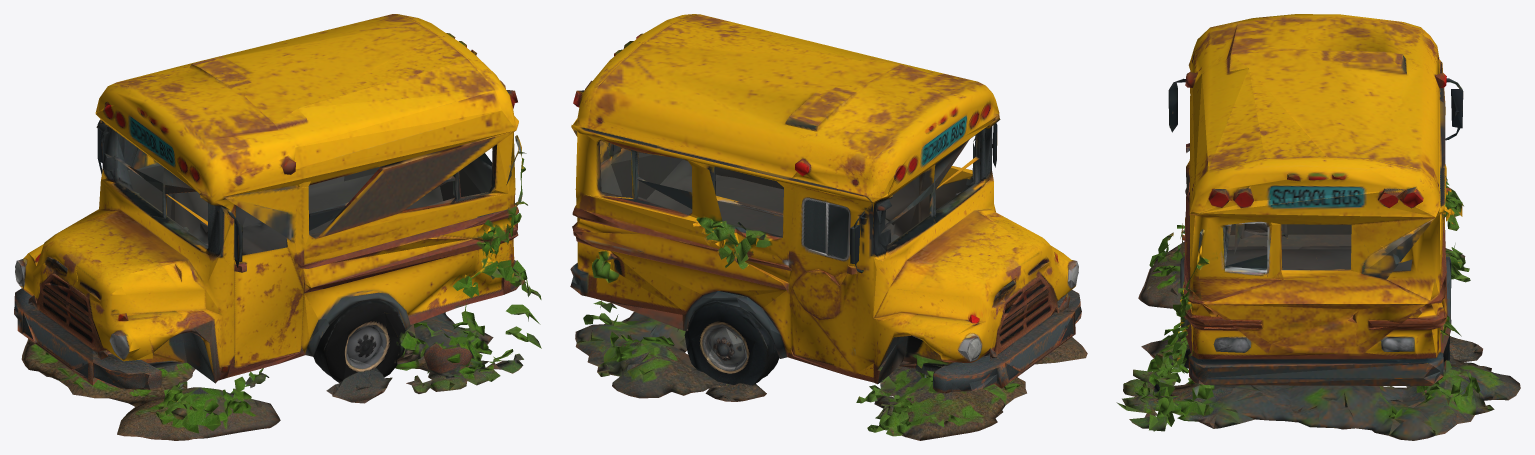
The model's file is BusWreck.fbx.
3 views of the same model, side by side, from view 1: azimuth 30°, elevation 25°; view 2: azimuth 150°, elevation 25°; view 3: azimuth 270°, elevation 25° (orthographic). The views are drawn at different scales.
Parts seen in each view (by area): view 1: Mesh_0; view 2: Mesh_0; view 3: Mesh_0.
Part boxes in pixels (x1,y1,x2,y2): Mesh_0: [14, 14, 541, 440]; Mesh_0: [570, 14, 1087, 440]; Mesh_0: [1116, 14, 1520, 440].
Bounding box in the file's own units: 189 × 115 × 153.
Materials: 1 (1 with a texture image).
